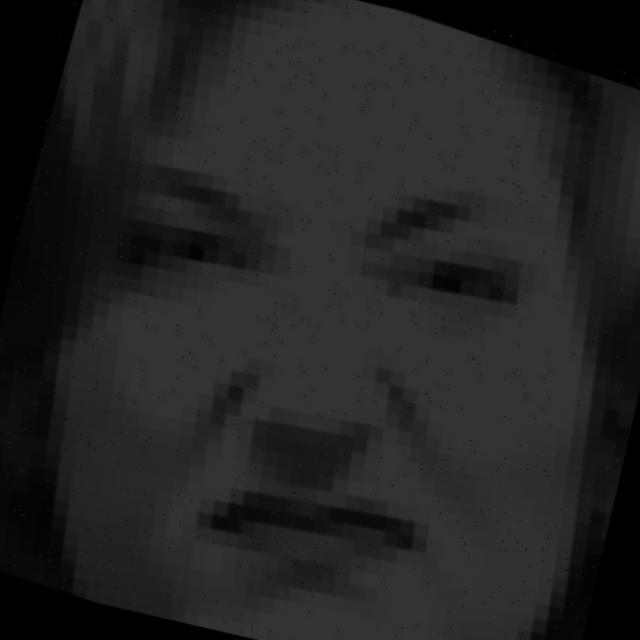Disgust: (54, 130, 640, 621)
